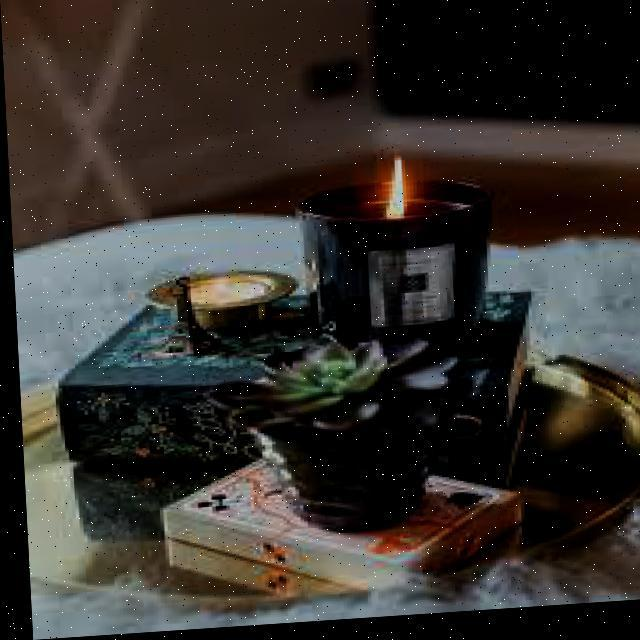Fire: (374, 158, 412, 223)
